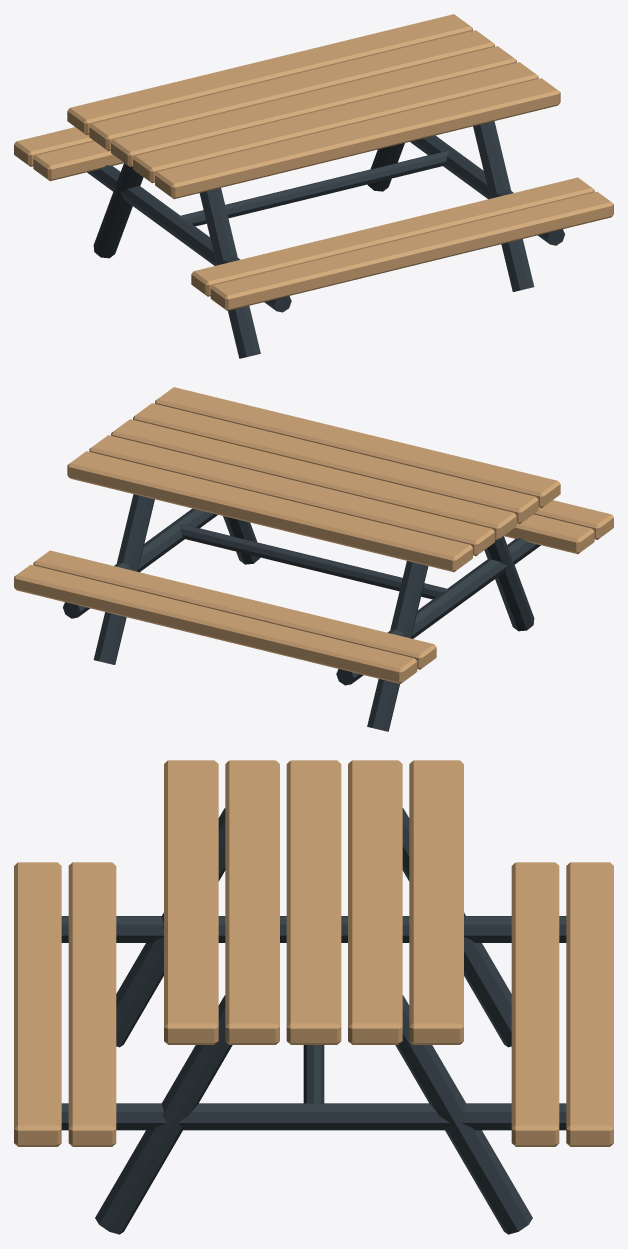
File: Picnic_Table.glb
3 renders of one model, top to bottom at view 1: azimuth 30°, elevation 25°; view 2: azimuth 150°, elevation 25°; view 3: azimuth 270°, elevation 25°, orthographic. The views are drawn at different scales.
Parts seen in each view (by area): view 1: Picnic_Table; view 2: Picnic_Table; view 3: Picnic_Table.
Part boxes in pixels (x1=…): Picnic_Table: x1=14, y1=14, x2=613, y2=358; Picnic_Table: x1=14, y1=387, x2=613, y2=731; Picnic_Table: x1=14, y1=760, x2=613, y2=1234.
Size of the model in its own units: 1.85 by 0.7974 by 1.76.
